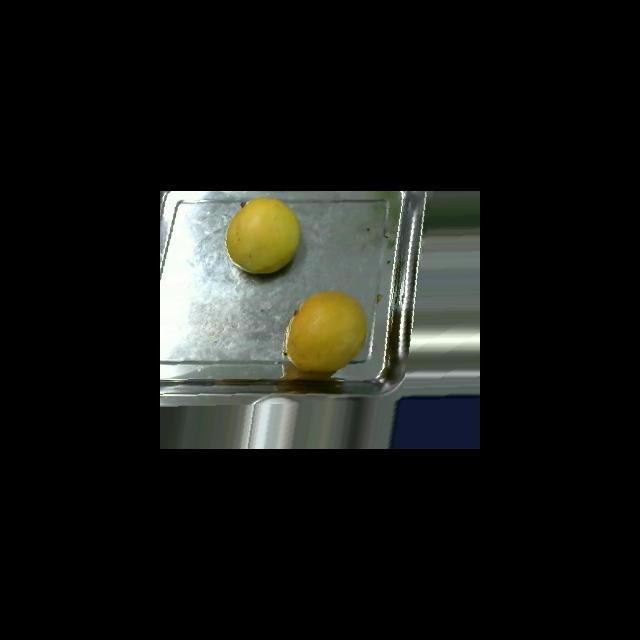mango: (283, 290, 367, 372), (224, 196, 300, 274)
